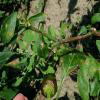Bell_pepper leaf spot: (58, 43, 87, 80), (77, 52, 99, 99), (0, 11, 18, 48), (36, 30, 50, 59), (29, 11, 48, 27)
